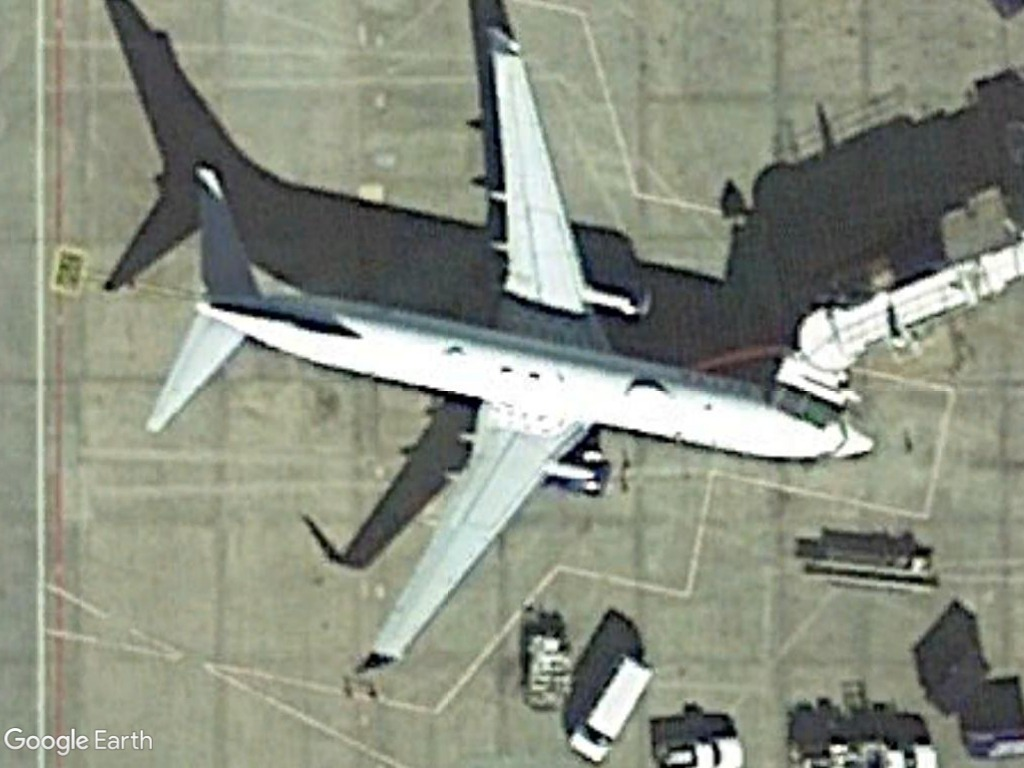airliner: (136, 19, 883, 686)
van: (563, 655, 656, 763)
